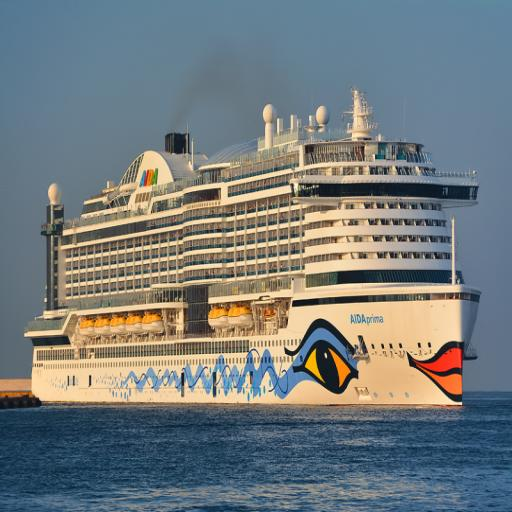cruises: (23, 88, 486, 417)
